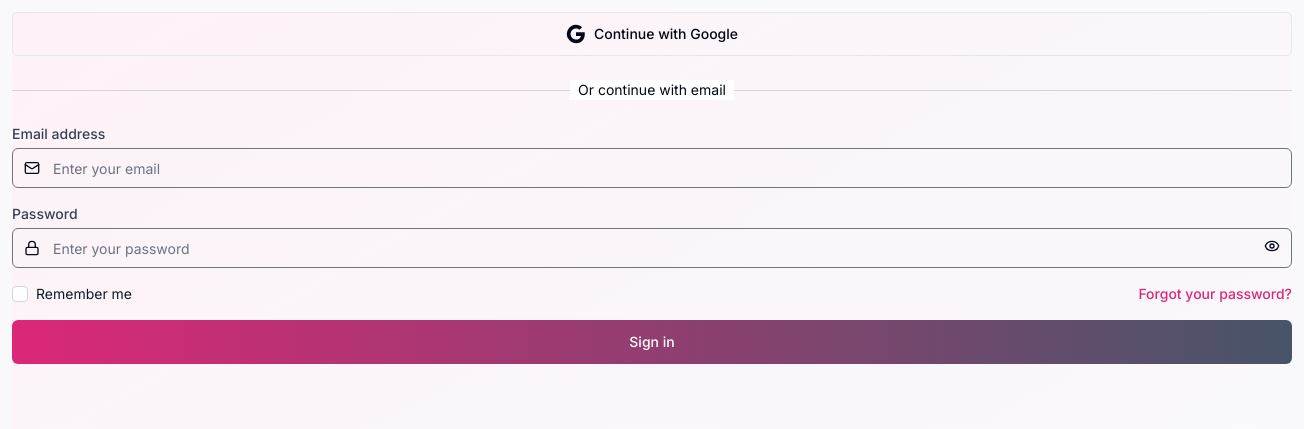
Scenario: SignInForm Component › Form Validation › shows validation error for short password
Type "123" into the password field labelled "Password" at (652, 248), box [12,228,1292,268]
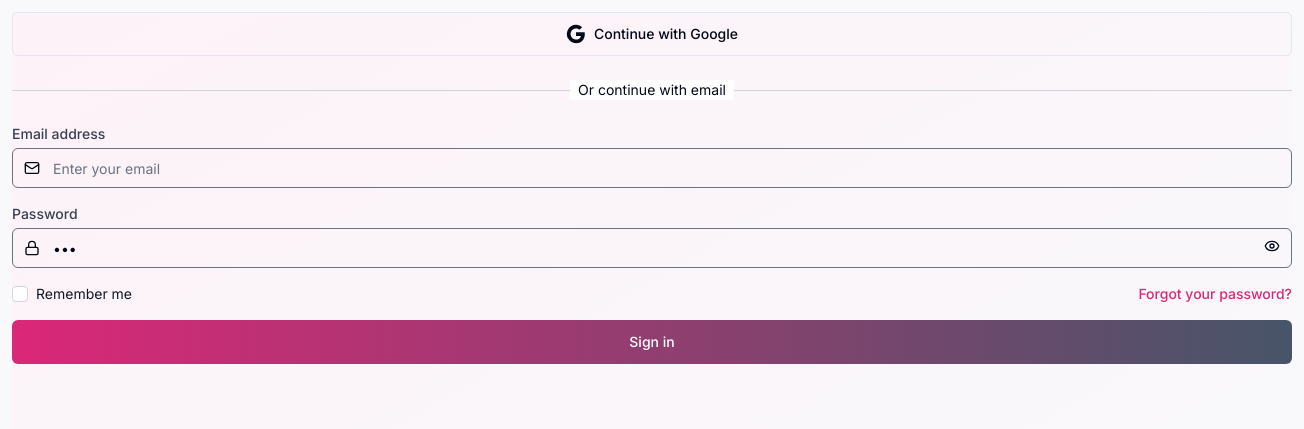
Click the button "Sign in" at (652, 342), box [12,320,1292,364]
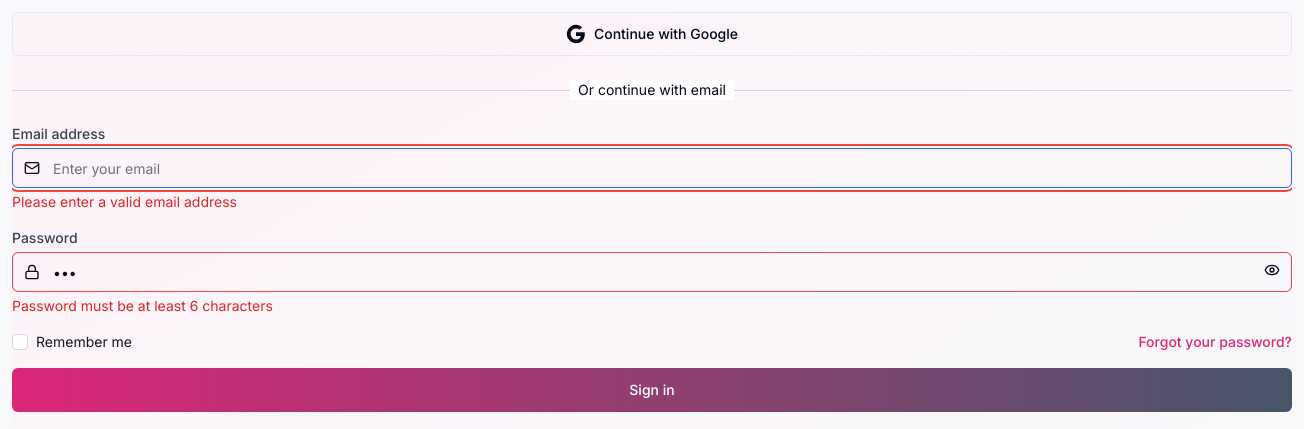
Expected: the text "Password must be at least 6 characters" is shown, [12,297,273,314]
